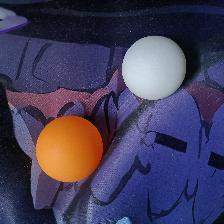WhiteBall: (121, 35, 186, 101)
YellowBall: (35, 114, 103, 182)
